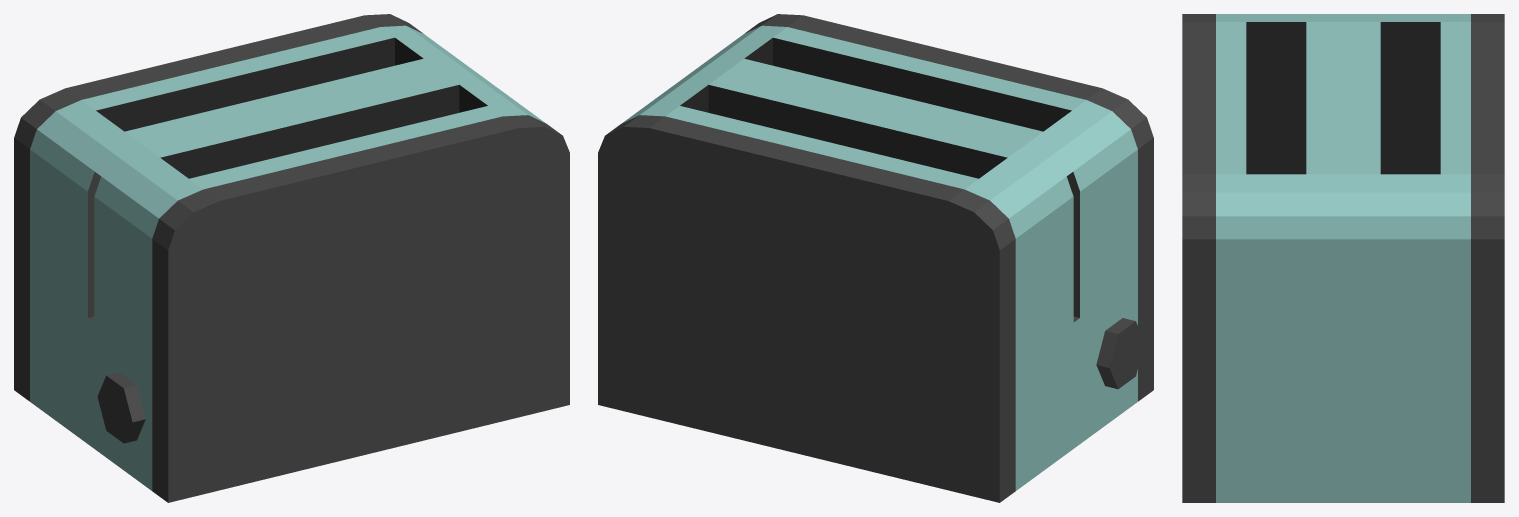
File: Toaster_C1_01.fbx
3 views of the same model, side by side, from view 1: azimuth 30°, elevation 25°; view 2: azimuth 150°, elevation 25°; view 3: azimuth 270°, elevation 25° (orthographic). The views are drawn at different scales.
Parts seen in each view (by area): view 1: Toaster_C1_01; view 2: Toaster_C1_01; view 3: Toaster_C1_01.
Boxes of the visible parts, left/top/right/bottom form: Toaster_C1_01: left=14, top=14, right=569, bottom=502; Toaster_C1_01: left=598, top=14, right=1153, bottom=502; Toaster_C1_01: left=1182, top=14, right=1504, bottom=502.
Bounding box in the file's own units: 30.19 × 20.12 × 19.42.
